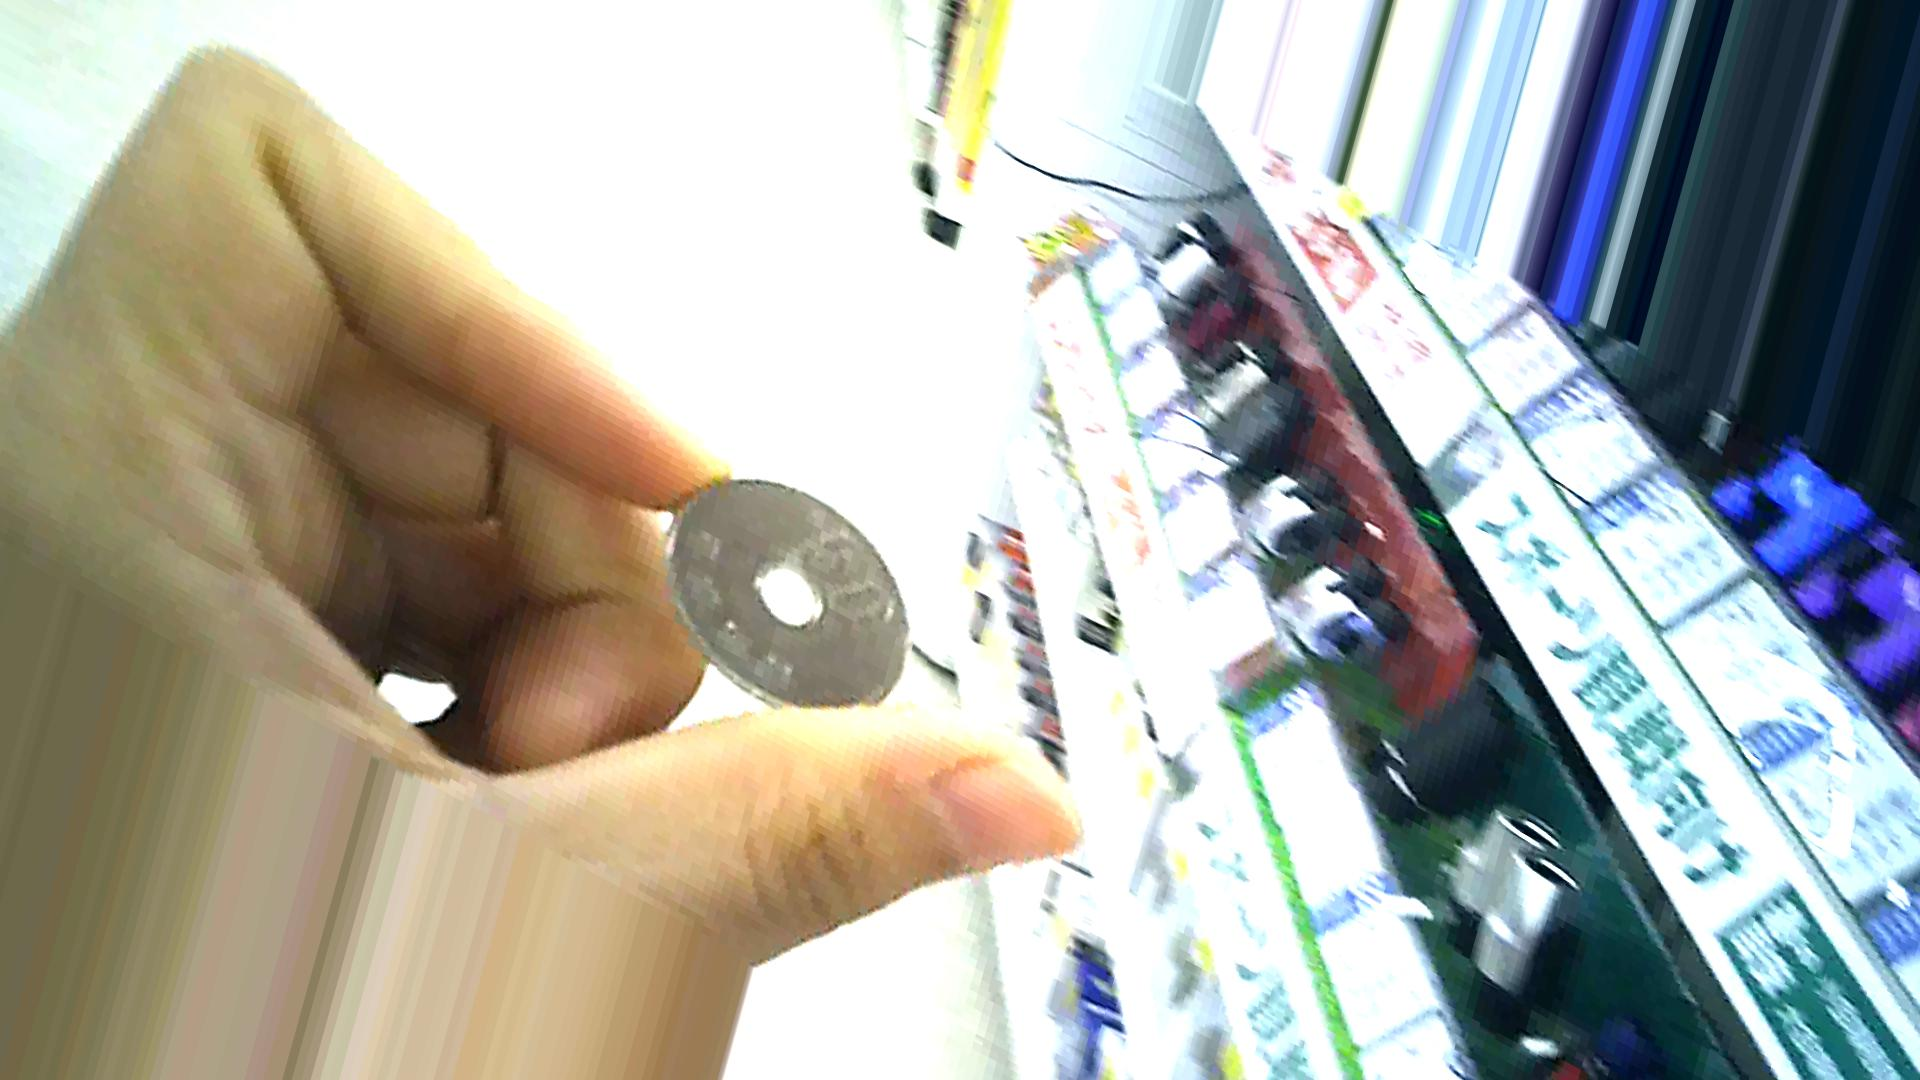50 Yen: (644, 465, 923, 716)
